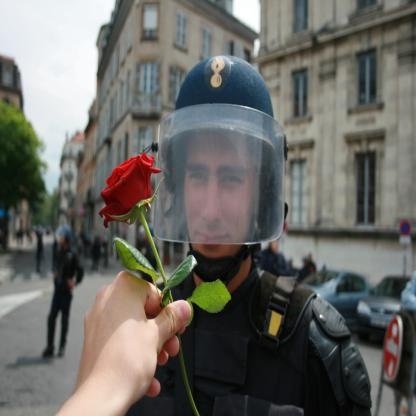Helmet: (157, 58, 294, 276), (55, 223, 71, 245)
